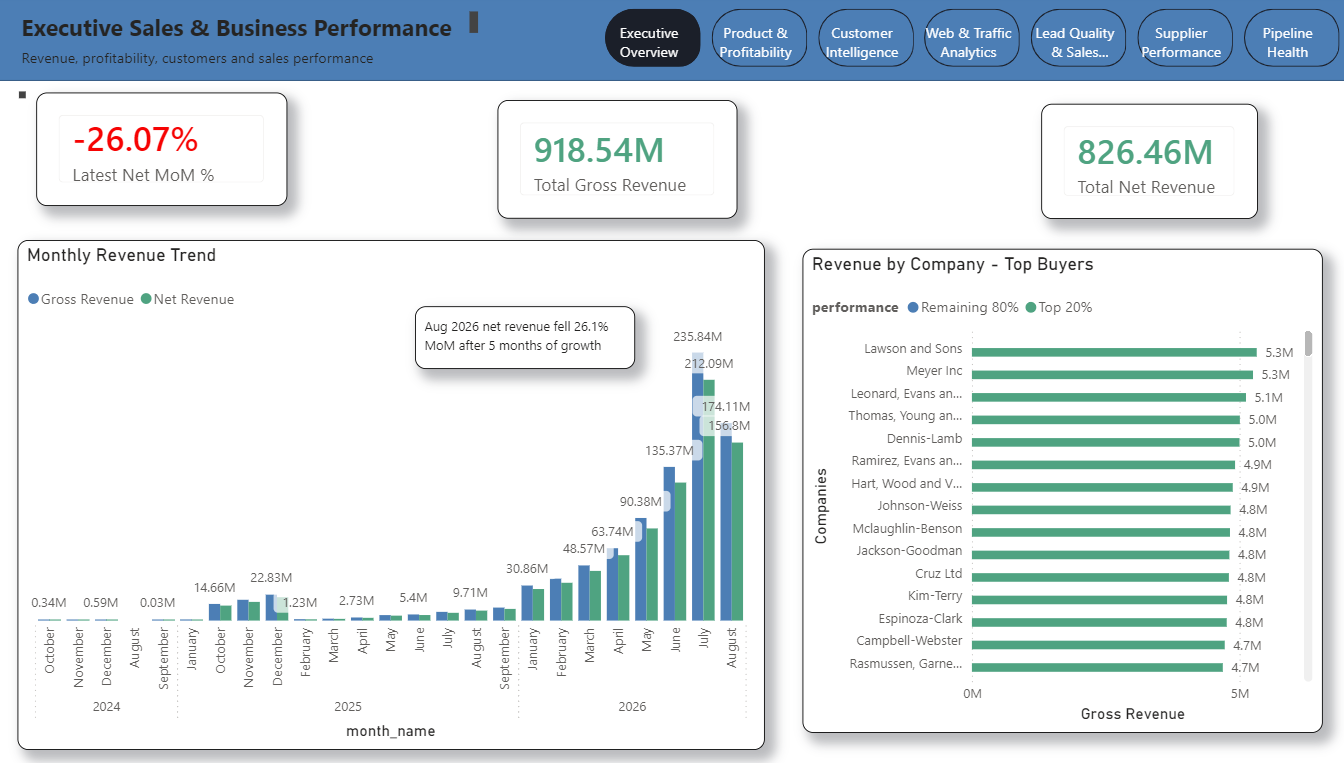

The dashboard page shown, as its layout file describes it:
{"tool":"powerbi","page":{"name":"Executive Overview","canvas":[1280,720],"ordinal":0},"visuals":[{"type":"shape","box":[0,0,1280,80],"z":0},{"type":"cardVisual","fields":{"Data":["Measure.Total Revenue"]},"box":[472.1,97.7,223.3,110.5],"z":1000},{"type":"cardVisual","fields":{"Data":["Measure.Total Revenue"]},"box":[977.9,101.2,201.7,107.4],"z":2000},{"type":"lineClusteredColumnComboChart","title":"Monthly Revenue Trend","fields":{"Category":["marts vw_monthly_revenue_trend.year","marts vw_monthly_revenue_trend.month_name"],"Y":["Sum(marts vw_monthly_revenue_trend.gross_revenue)","Sum(marts vw_monthly_revenue_trend.net_revenue)"]},"box":[25.6,228.2,694.9,474.4],"z":3000},{"type":"cardVisual","fields":{"Data":["Measure.Latest Net MoM %"]},"box":[43,90.7,233.7,105.8],"z":4000},{"type":"clusteredBarChart","title":"Revenue by Company - Top Buyers","fields":{"Category":["marts vw_revenue_by_company.company_name"],"Series":["marts vw_revenue_by_company.performance"],"Y":["Sum(marts vw_revenue_by_company.gross_revenue)"]},"box":[755.8,236,483.7,450],"z":5000},{"type":"textbox","box":[24.9,10.7,447.7,56.8],"z":6000},{"type":"textbox","box":[24.4,44.2,679.1,36],"z":7000},{"type":"pageNavigator","box":[572.1,12.8,688.4,54.7],"z":8000},{"type":"textbox","box":[460.7,247.5,246.3,59.2],"z":15000}]}

Visuals, with their boxes in screenshot pixels (x1, y1, x2, y2), scaled from the page's 1280x720 canvas onto the 1344x763 screenshot:
shape: 0/0/1343/85
cardVisual - Measure.Total Revenue: 496/104/730/221
cardVisual - Measure.Total Revenue: 1027/107/1239/221
"Monthly Revenue Trend" lineClusteredColumnComboChart: 27/242/757/745
cardVisual - Measure.Latest Net MoM %: 45/96/291/208
"Revenue by Company - Top Buyers" clusteredBarChart: 794/250/1301/727
textbox: 26/11/496/72
textbox: 26/47/739/85
pageNavigator: 601/14/1324/72
textbox: 484/262/742/325
